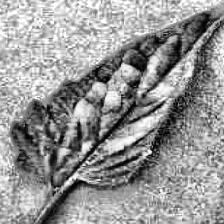leaf mold: (13, 0, 224, 188)
